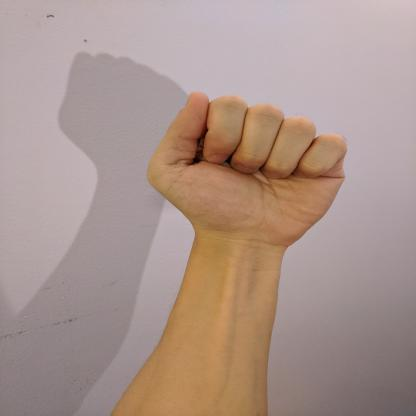A: (142, 87, 352, 258)
